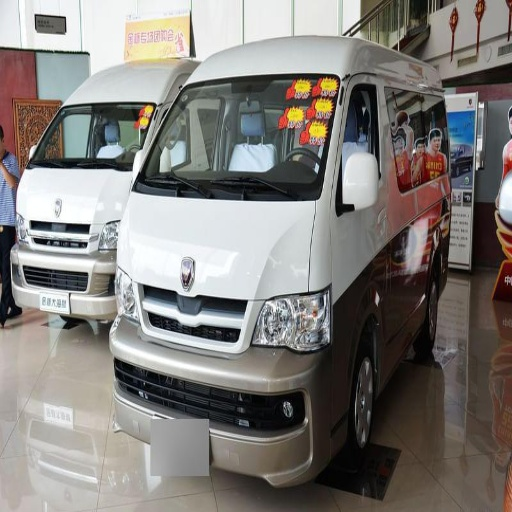front_bumper: (47, 236, 353, 510), (11, 208, 78, 297)
front_glass: (143, 76, 338, 198), (32, 133, 117, 167)
front_left_door: (335, 78, 413, 343)
